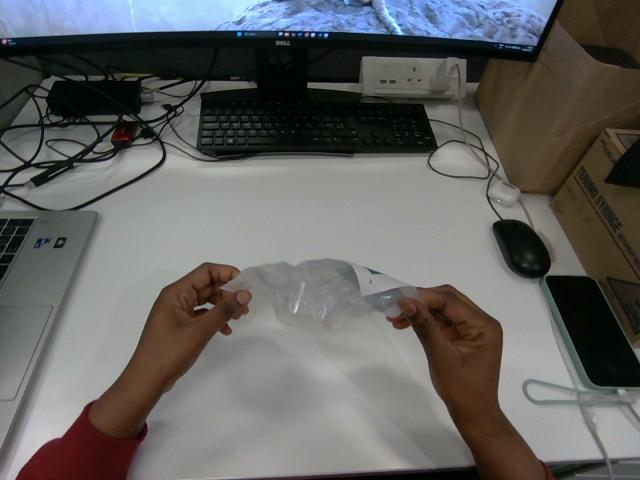gallipot: (222, 259, 419, 328)
